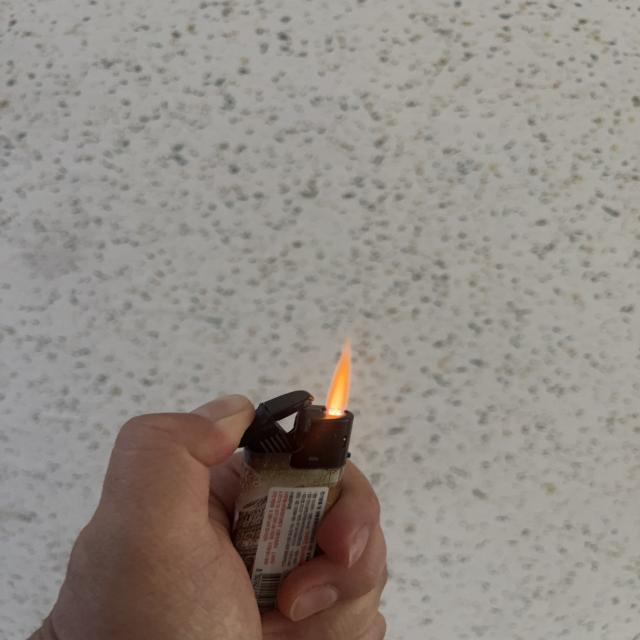fire: (323, 343, 353, 408)
